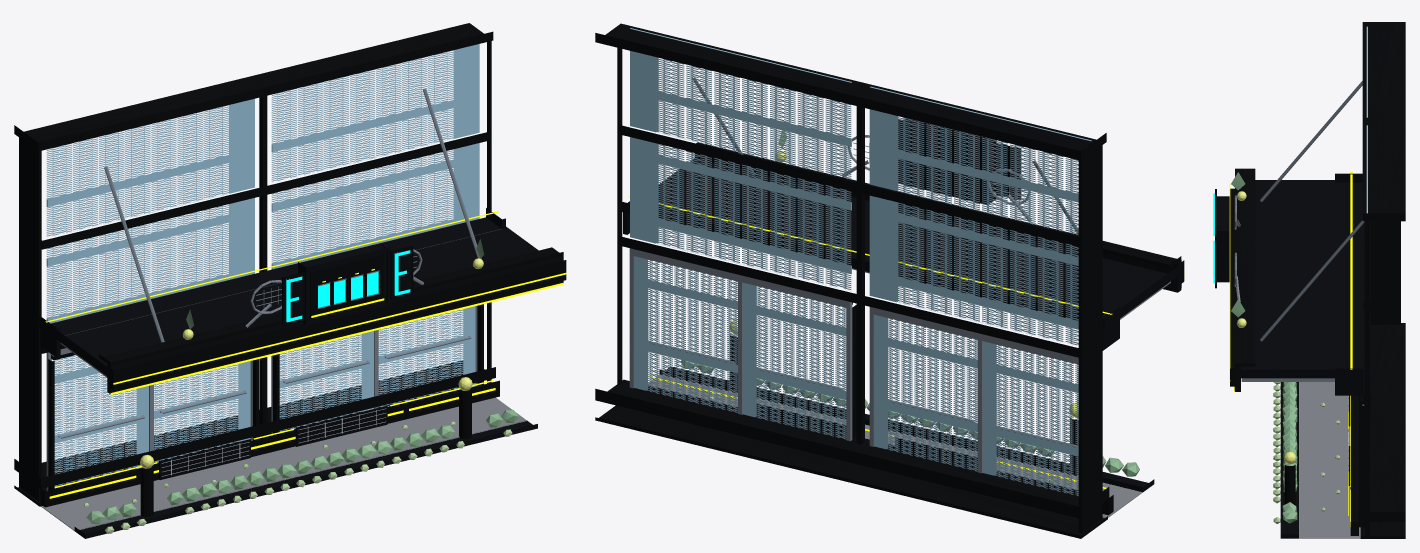
File: tt_secondary_entrance_e.glb
3 views of the same model, side by side, from view 1: azimuth 30°, elevation 25°; view 2: azimuth 150°, elevation 25°; view 3: azimuth 270°, elevation 25° (orthographic). The views are drawn at different scales.
Parts seen in each view (by area): view 1: Frame, Upper_Scissor_11, Upper_Scissor_01, Canopy, Upper_Scissor_10, Upper_Scissor_00, Fascia_Gunmetal, Threshold_Mat, Door_Scissor_00, Door_Scissor_11, Door_Scissor_01, Door_Scissor_10 (+19 smaller); view 2: Frame, Canopy, Upper_Scissor_10, Upper_Scissor_00, Upper_Scissor_11, Upper_Scissor_01, Door_Scissor_10, Door_Scissor_01, Door_Scissor_11, Door_Scissor_00, Door_Stiles, Scoreboard (+7 smaller); view 3: Frame, Canopy, Threshold_Mat, Fascia_Gunmetal, Hedge_Edge, Terrace_Kerb, Scoreboard, Tie_Rods, Court_Line_LED, Hedge_Edge_Light, Ball_Bollards, Canopy_Soffit (+2 smaller).
Part boxes in pixels (bbox=[...]): Frame: bbox=[14, 23, 499, 507]; Upper_Scissor_11: bbox=[271, 44, 479, 181]; Upper_Scissor_01: bbox=[46, 98, 254, 236]; Canopy: bbox=[39, 208, 538, 375]; Upper_Scissor_10: bbox=[271, 143, 479, 269]; Upper_Scissor_00: bbox=[46, 198, 254, 323]; Fascia_Gunmetal: bbox=[99, 247, 566, 390]; Threshold_Mat: bbox=[41, 397, 527, 530]; Door_Scissor_00: bbox=[52, 355, 148, 486]; Door_Scissor_11: bbox=[378, 306, 475, 406]; Door_Scissor_01: bbox=[154, 361, 250, 463]; Door_Scissor_10: bbox=[279, 331, 373, 431]; Frame: bbox=[595, 23, 1113, 538]; Canopy: bbox=[622, 159, 1177, 350]; Upper_Scissor_10: bbox=[630, 137, 851, 289]; Upper_Scissor_00: bbox=[869, 195, 1078, 345]; Upper_Scissor_11: bbox=[630, 28, 851, 178]; Upper_Scissor_01: bbox=[869, 86, 1091, 233]; Door_Scissor_10: bbox=[743, 282, 846, 439]; Door_Scissor_01: bbox=[874, 315, 977, 471]; Door_Scissor_11: bbox=[634, 256, 737, 412]; Door_Scissor_00: bbox=[983, 341, 1078, 496]; Door_Stiles: bbox=[629, 248, 1078, 473]; Scoreboard: bbox=[898, 119, 996, 204]; Frame: bbox=[1350, 22, 1405, 538]; Canopy: bbox=[1240, 173, 1363, 395]; Threshold_Mat: bbox=[1299, 382, 1359, 538]; Fascia_Gunmetal: bbox=[1230, 168, 1255, 386]; Hedge_Edge: bbox=[1282, 382, 1297, 523]; Terrace_Kerb: bbox=[1280, 382, 1299, 538]; Scoreboard: bbox=[1215, 196, 1229, 282]; Tie_Rods: bbox=[1260, 81, 1364, 341]; Court_Line_LED: bbox=[1229, 171, 1352, 392]; Hedge_Edge_Light: bbox=[1273, 382, 1280, 523]; Ball_Bollards: bbox=[1284, 464, 1295, 505]; Canopy_Soffit: bbox=[1241, 378, 1334, 381].
Size of what is drawn, in the model's own units: 8 by 6.1 by 3.26.
Materials: 12 (6 with a texture image).
